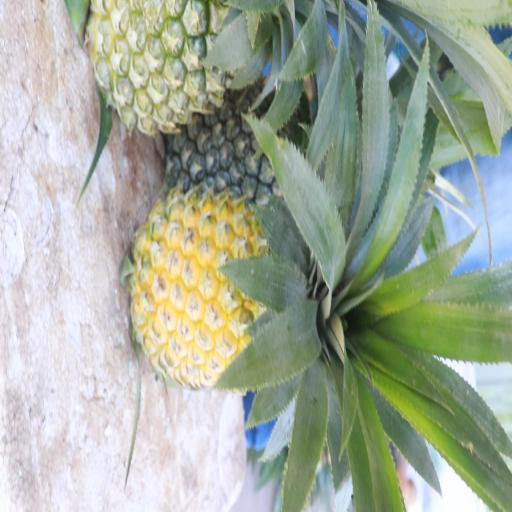------------------------------: (85, 0, 284, 126)
Pineapple - v8 v1: (131, 186, 351, 386)
